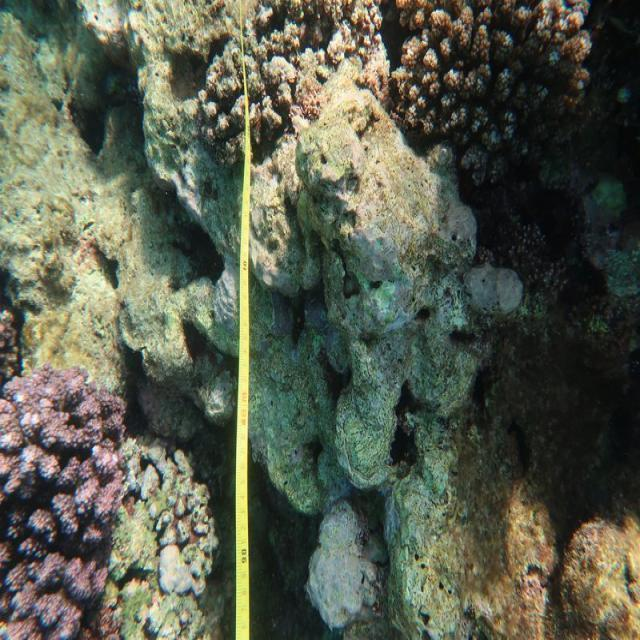Healthy Coral: (0, 311, 126, 640), (384, 1, 607, 168)
